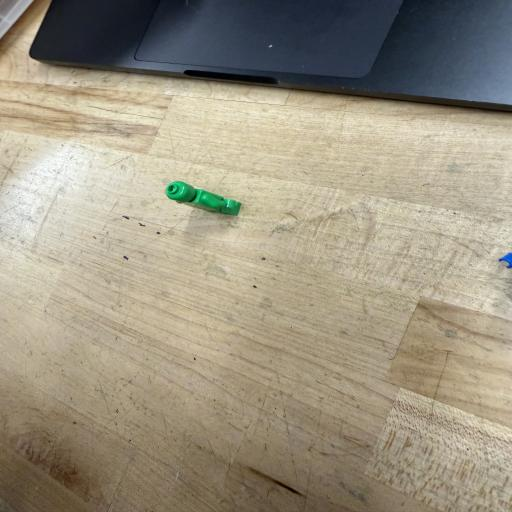blue-minifig: (499, 253, 512, 268)
green-minifig: (166, 181, 241, 215), (187, 189, 241, 215)
